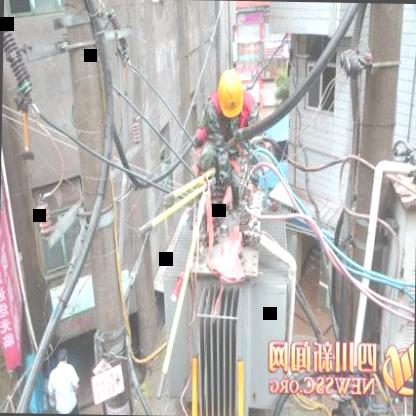helmet: (214, 64, 247, 126), (45, 359, 80, 414)
